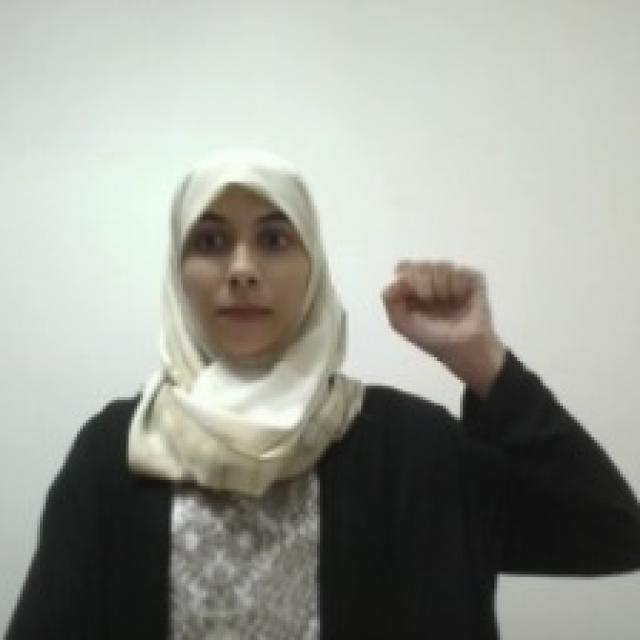yes: (376, 248, 496, 361)
